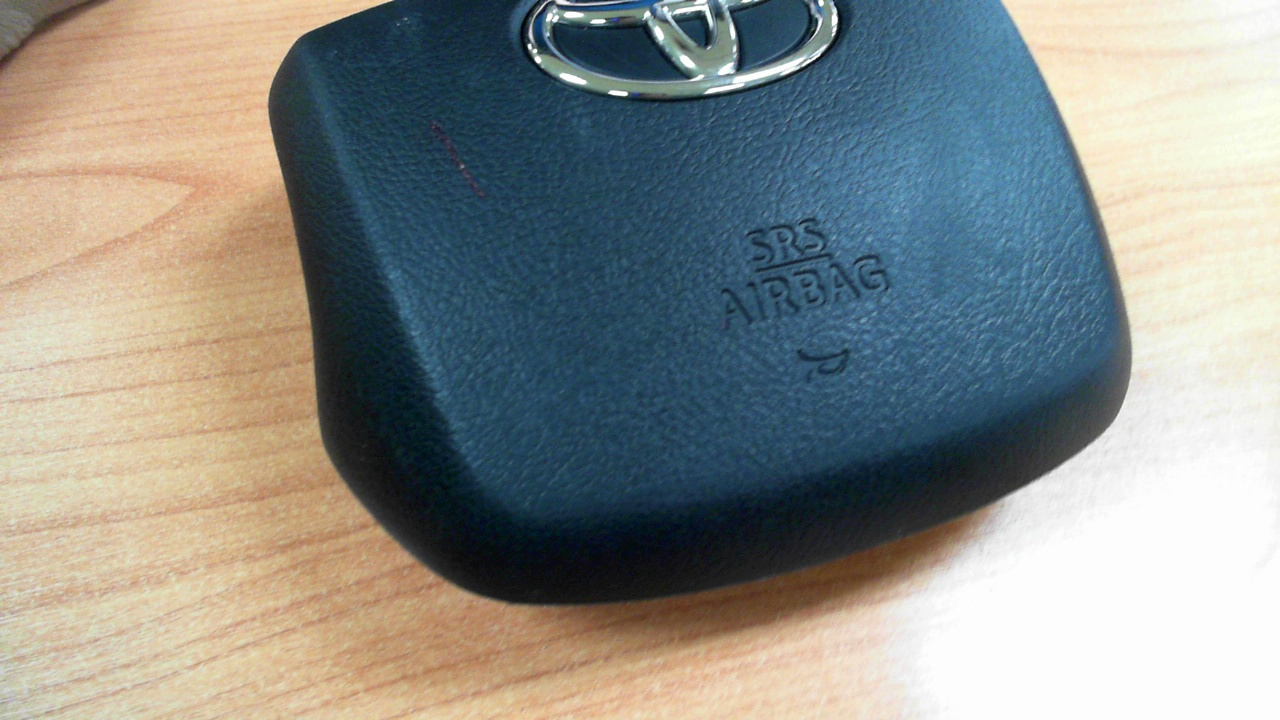Airbag: (266, 0, 1133, 605)
Toyota: (527, 2, 838, 99)
